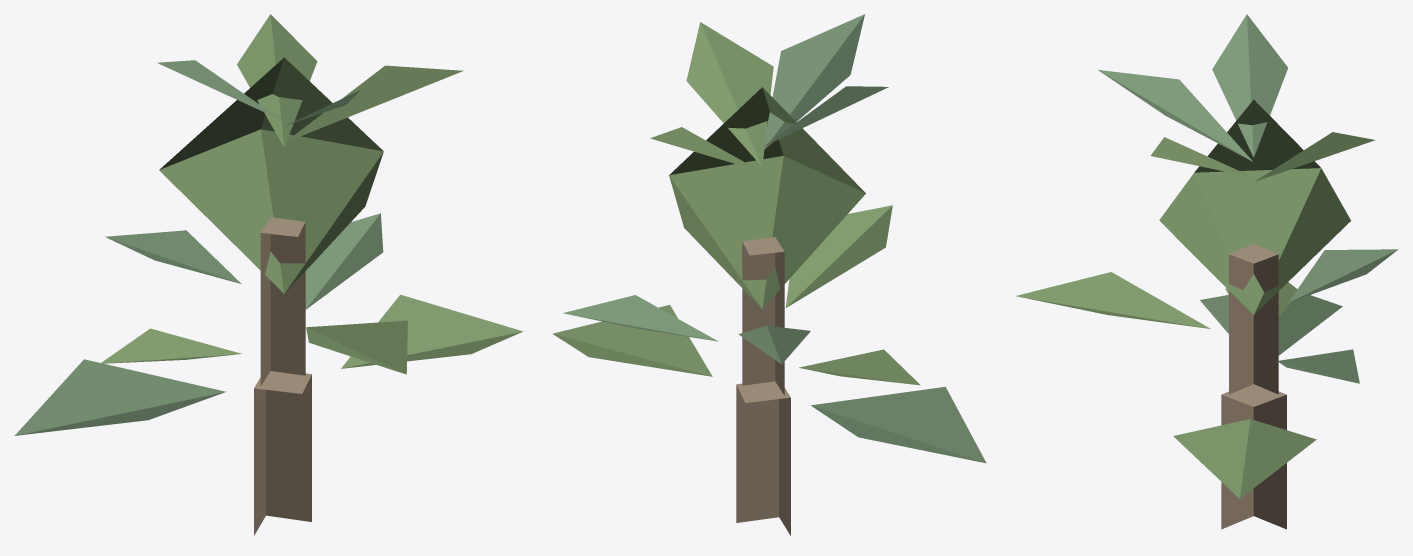
File: shu.hongpi@seedling__bloom.glb
3 views of the same model, side by side, from view 1: azimuth 30°, elevation 25°; view 2: azimuth 150°, elevation 25°; view 3: azimuth 270°, elevation 25° (orthographic). The views are drawn at different scales.
Parts seen in each view (by area): view 1: shu.hongpi@seedling__bloom; view 2: shu.hongpi@seedling__bloom; view 3: shu.hongpi@seedling__bloom.
Part boxes in pixels (x1,y1,x2,y2): shu.hongpi@seedling__bloom: [14, 14, 523, 535]; shu.hongpi@seedling__bloom: [552, 14, 986, 535]; shu.hongpi@seedling__bloom: [1016, 14, 1398, 529].
Size of the model in its own units: 1.83 by 1.8 by 1.37.
